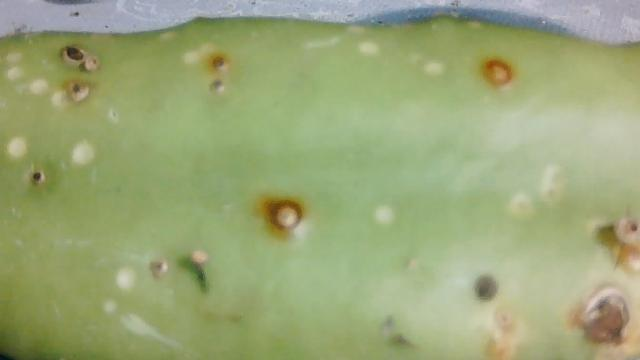stemcanker: (565, 280, 637, 355), (246, 188, 315, 248), (582, 208, 640, 278), (361, 193, 428, 240), (472, 49, 524, 96), (51, 35, 110, 76), (197, 44, 240, 99), (482, 305, 525, 360), (541, 153, 575, 209), (65, 131, 107, 170), (58, 76, 102, 111), (454, 12, 501, 42), (507, 195, 549, 226), (96, 297, 138, 328), (101, 262, 140, 294), (10, 130, 43, 163), (186, 249, 223, 276), (417, 55, 451, 84), (180, 44, 222, 67), (26, 79, 66, 103), (357, 38, 398, 61), (146, 253, 174, 282), (23, 166, 53, 191), (399, 251, 427, 277), (7, 73, 41, 92), (9, 48, 32, 72), (163, 28, 191, 47)
